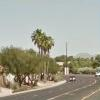Palm tree: (24, 19, 58, 68)
